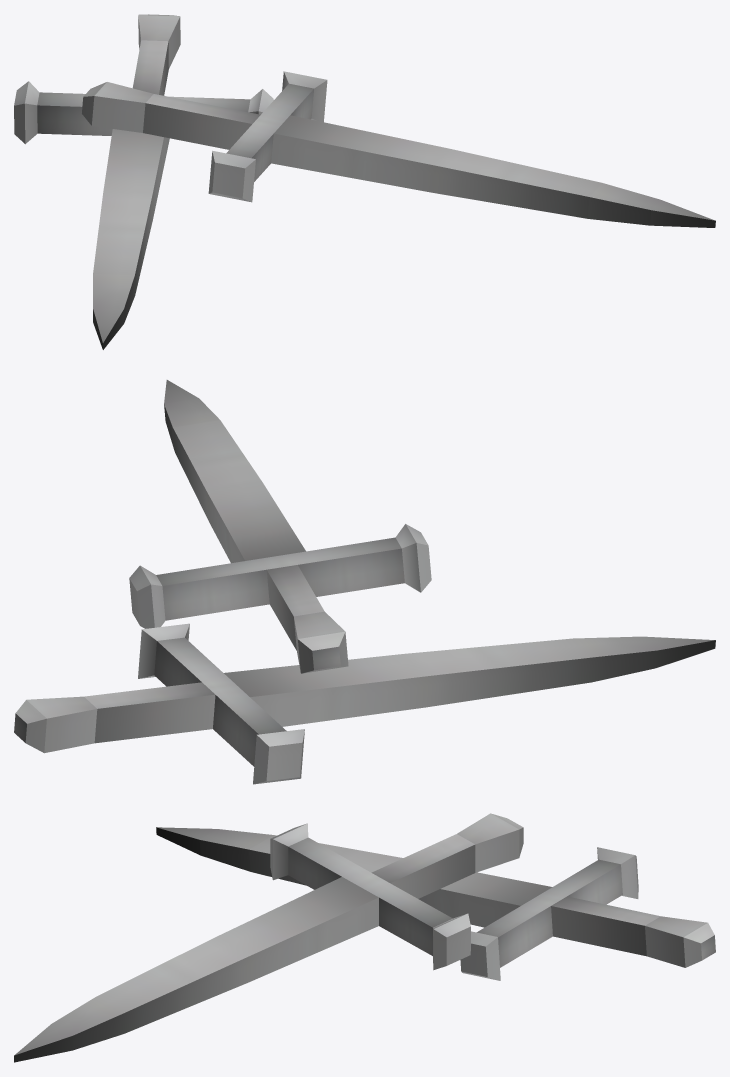
The model's file is SwordEarrings_Ground.fbx.
3 renders of one model, top to bottom at view 1: azimuth 30°, elevation 25°; view 2: azimuth 150°, elevation 25°; view 3: azimuth 270°, elevation 25°, orthographic. The views are drawn at different scales.
Visible parts, largest first — view 1: G_SwordEarrings; view 2: G_SwordEarrings; view 3: G_SwordEarrings.
Boxes of the visible parts, left/top/right/bottom form: G_SwordEarrings: left=14, top=14, right=715, bottom=349; G_SwordEarrings: left=14, top=380, right=715, bottom=784; G_SwordEarrings: left=14, top=813, right=715, bottom=1062.
Bounding box in the file's own units: 0.0588 × 0.0104 × 0.0646.
